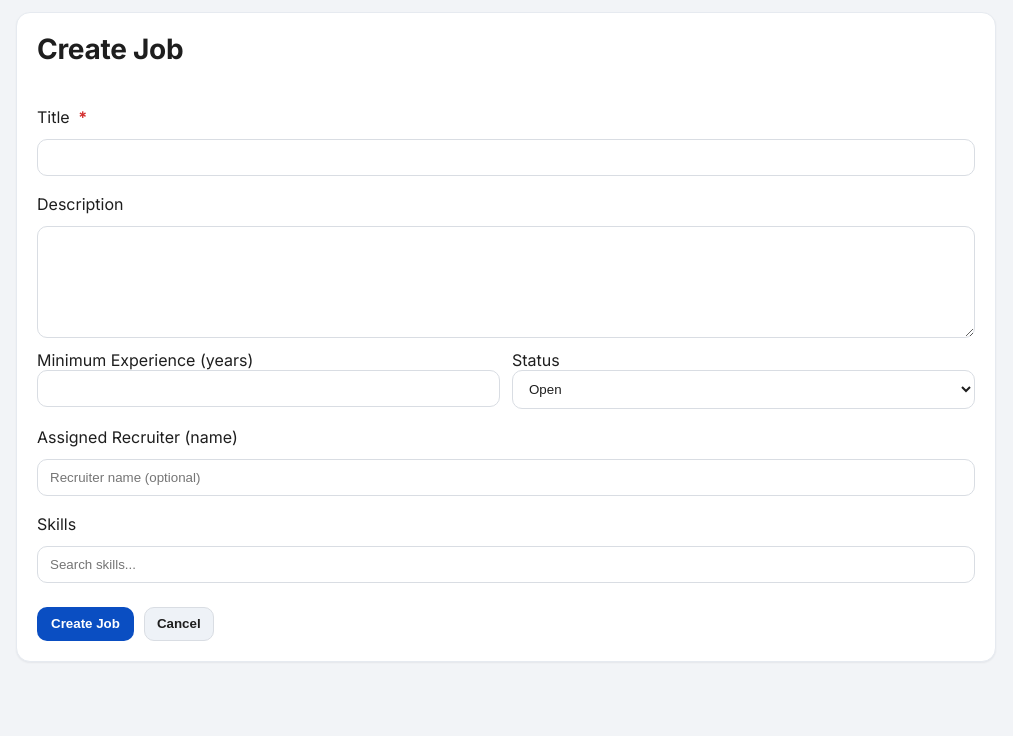
Test case: JobForm Component › removes skill when remove button clicked
This screenshot has width=1013, height=736.
In the field with placeholder "Search skills...": [506, 565] box [37,546,975,583], type "Java"
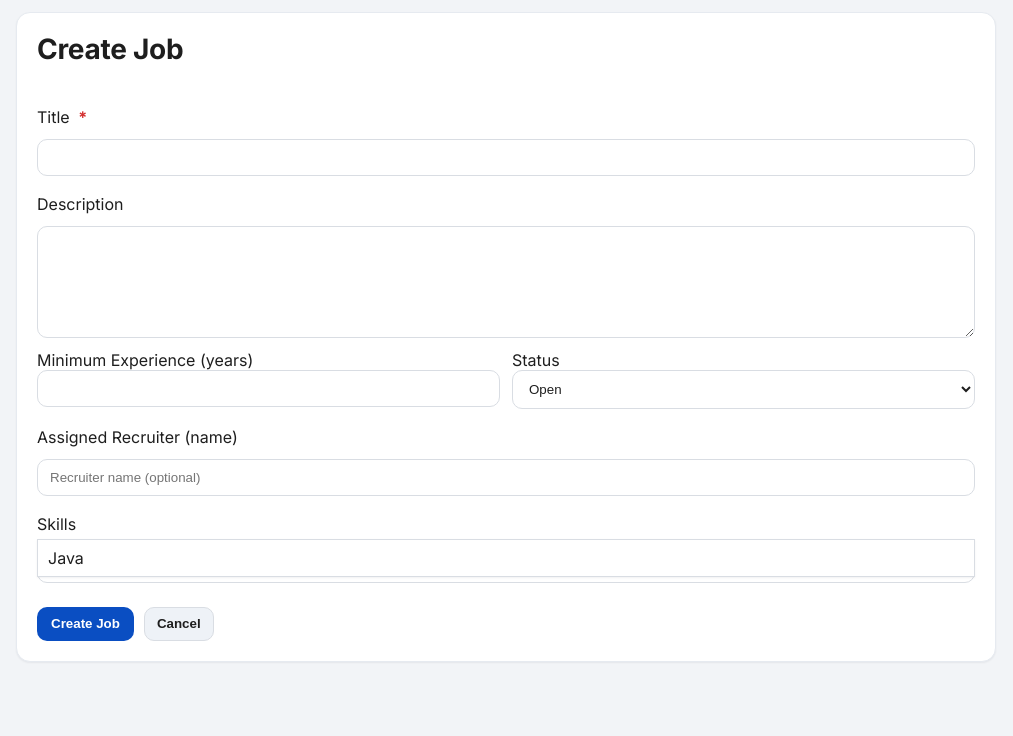
Click the list item "Java": [66, 558] box [48,548,84,568]
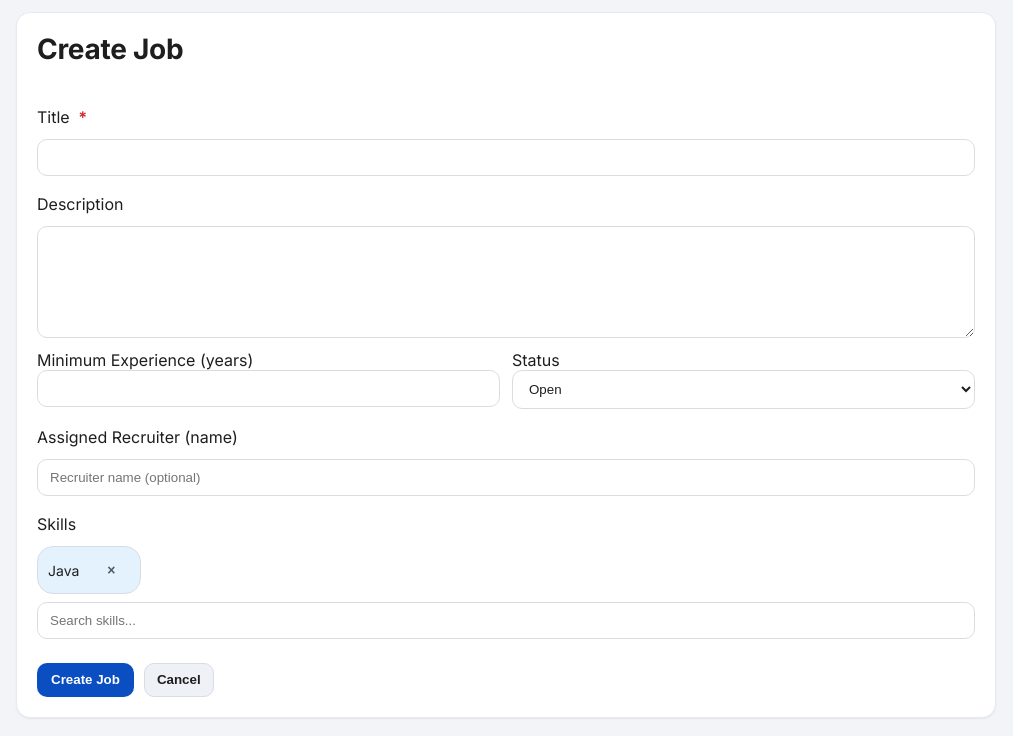
Click the button "×": [111, 570] box [93,553,130,587]
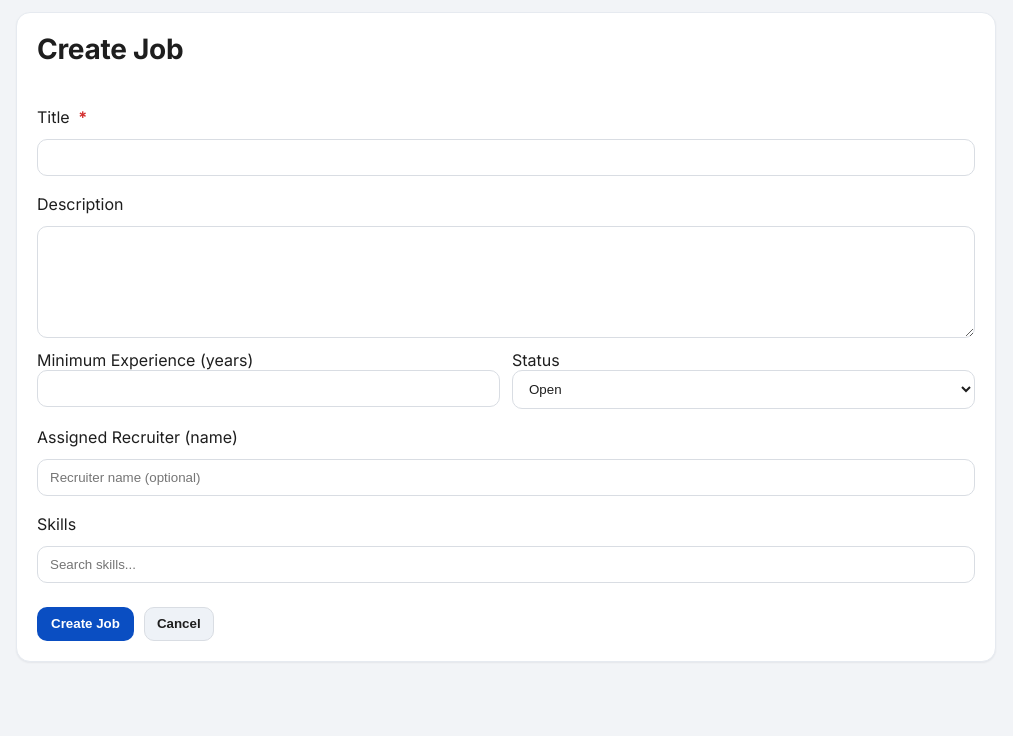
Check: the text "Java" is gone
